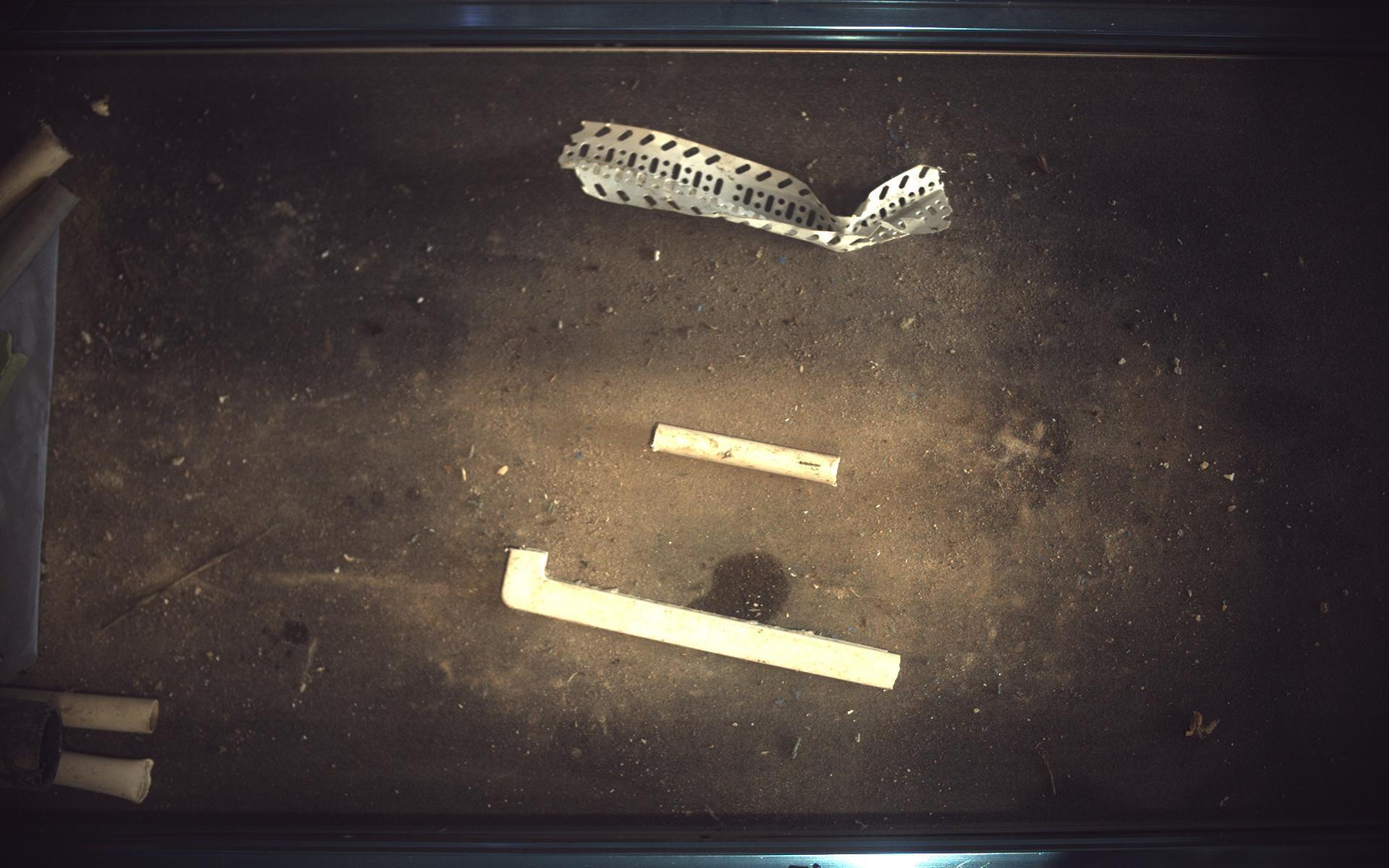pipes: (651, 424, 842, 486)
plastic: (502, 549, 903, 690), (559, 120, 953, 251)
